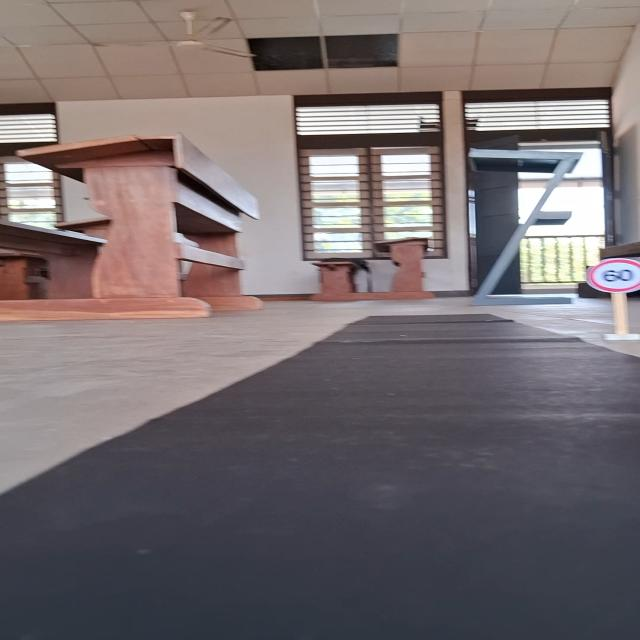Speed60: (581, 256, 640, 296)
